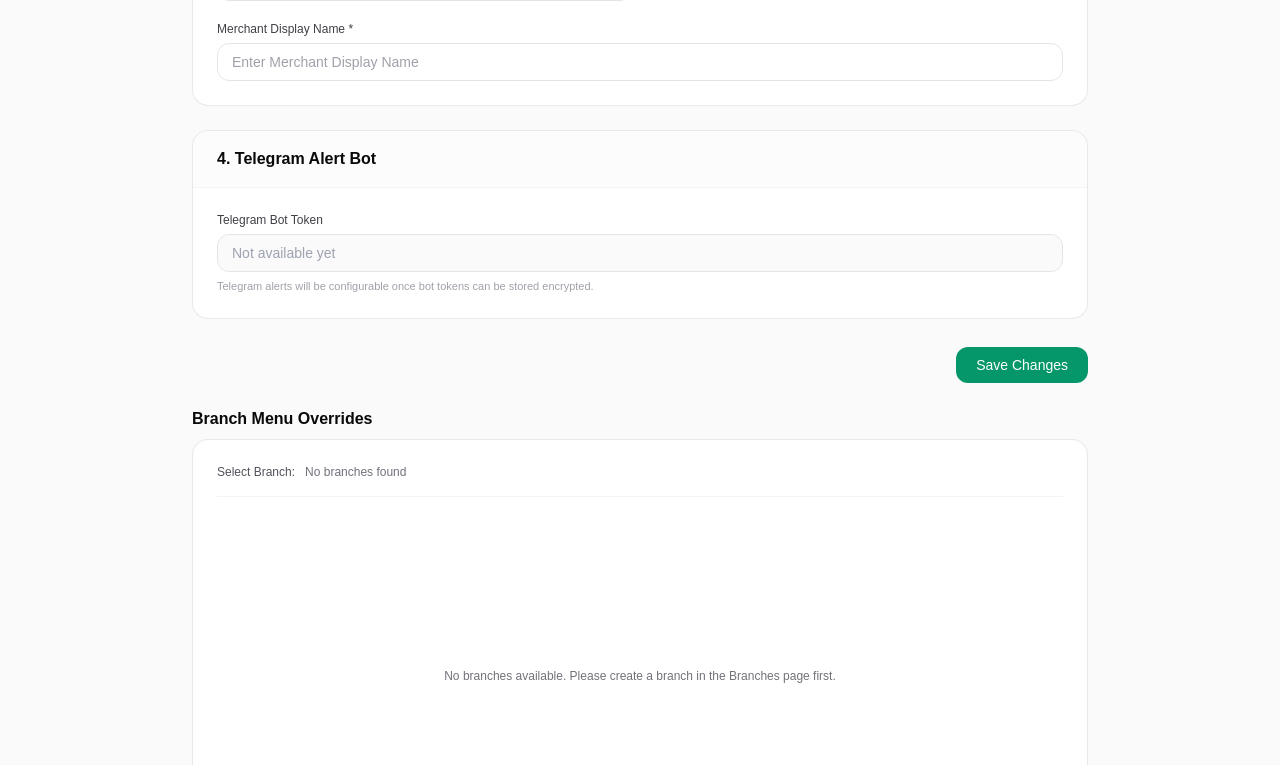
it: StoreSettingsTab › shows the API error instead of claiming success
(page scrolled)
Click the button "Save Changes": (1022, 365) [956,347,1088,383]
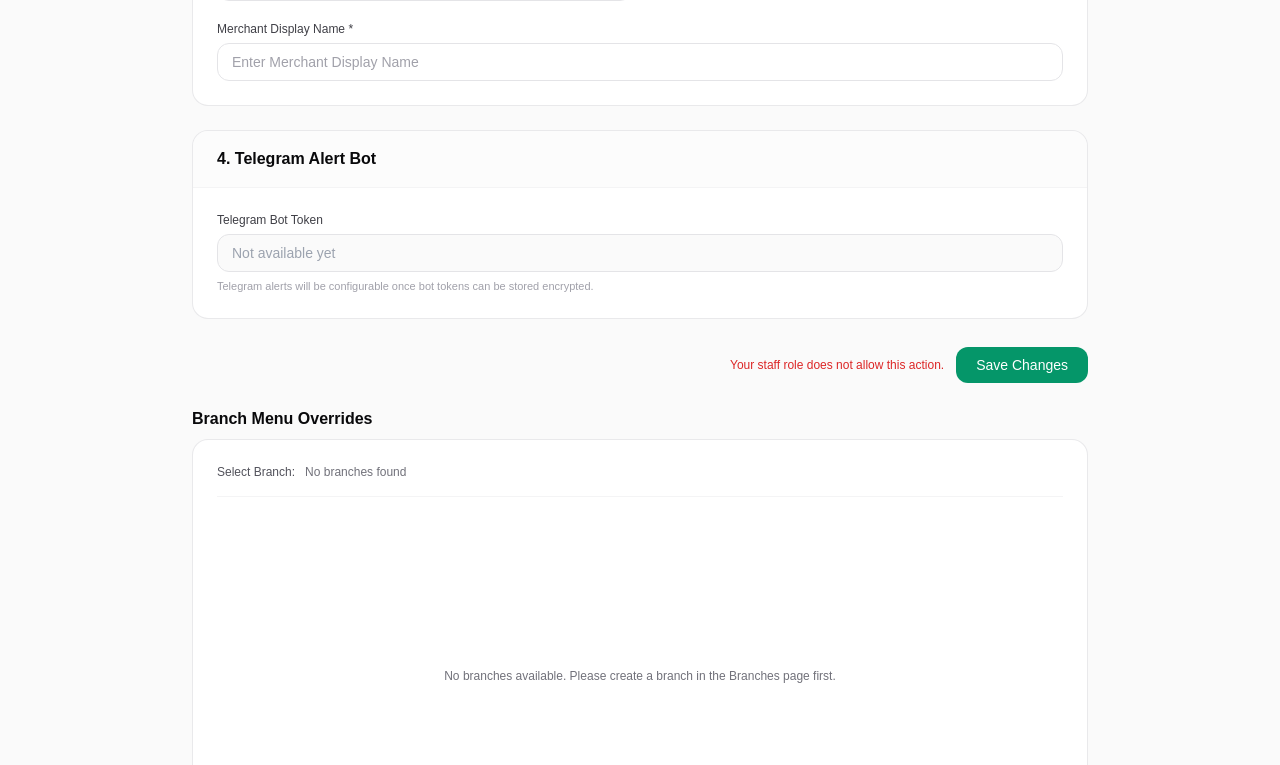
Expected: the message reads "Your staff role does not allow this action.", [730,358,944,372]
